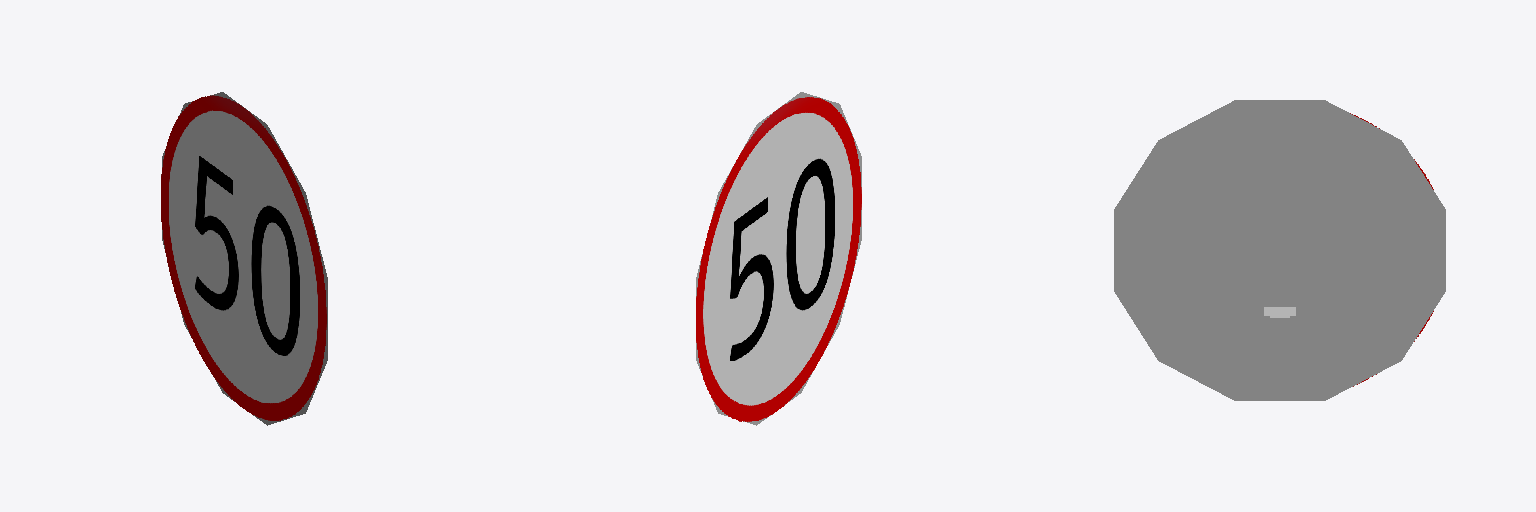
3 renders of one model, left to right at view 1: azimuth 30°, elevation 25°; view 2: azimuth 150°, elevation 25°; view 3: azimuth 270°, elevation 25°, orthographic.
Parts seen in each view (by area): view 1: cube, circle; view 2: cube, circle; view 3: circle, cube.
Boxes of the visible parts, box(x1,y1,x2,y2) form: cube: box(161, 95, 326, 420); circle: box(162, 92, 327, 425); cube: box(696, 97, 861, 421); circle: box(696, 92, 861, 425); circle: box(1114, 100, 1445, 400); cube: box(1264, 113, 1433, 386).
Bounding box in the file's own units: 0.0797 × 1 × 1.
2 materials, 1 textured.